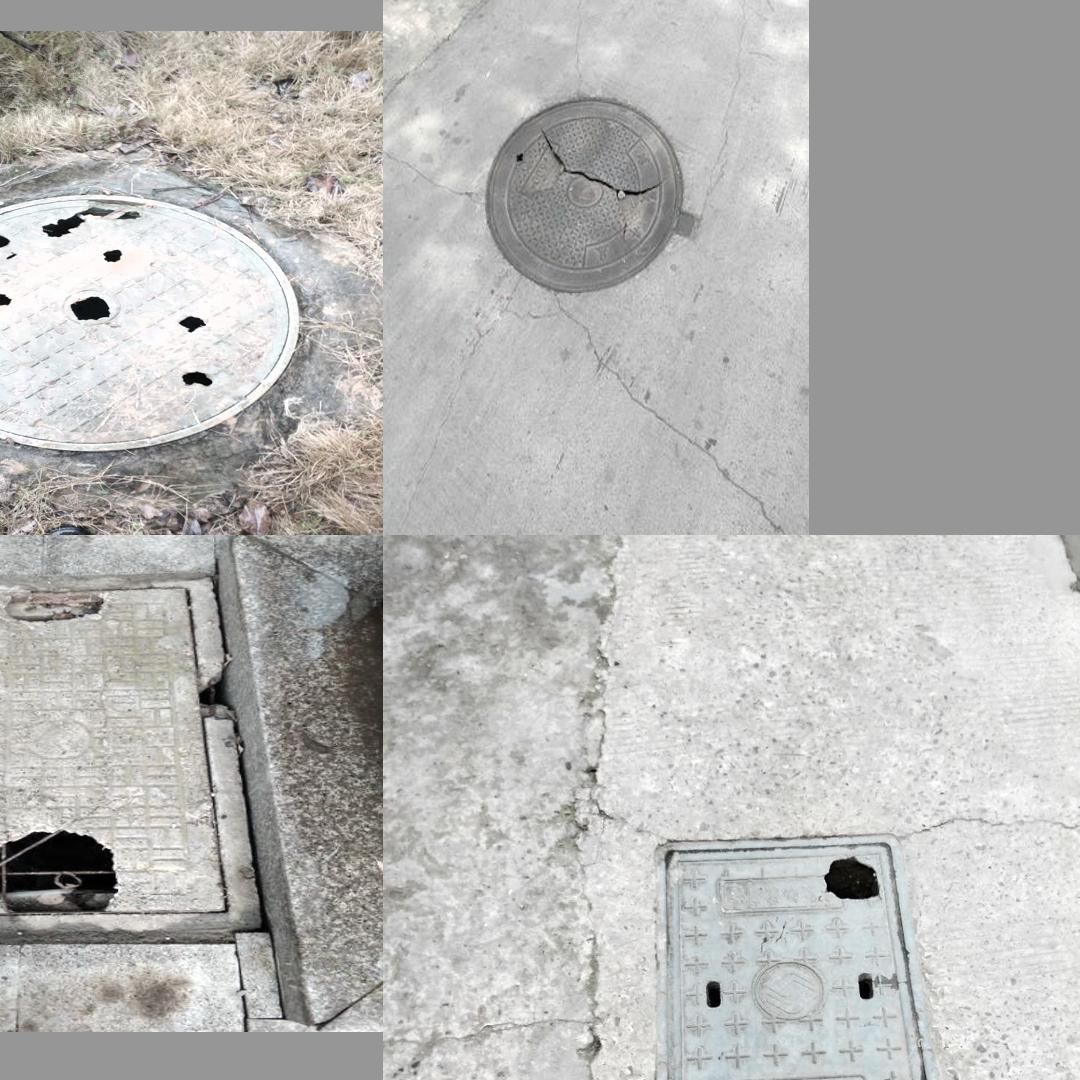broke: (0, 571, 260, 934), (0, 193, 299, 452), (653, 832, 948, 1080), (481, 84, 699, 301)
